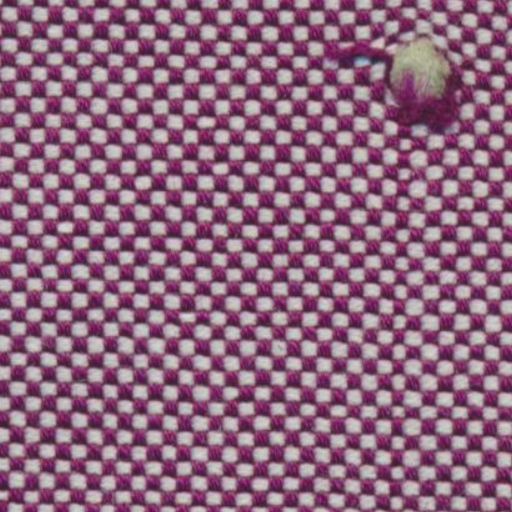MianQiu: (312, 19, 485, 147)
